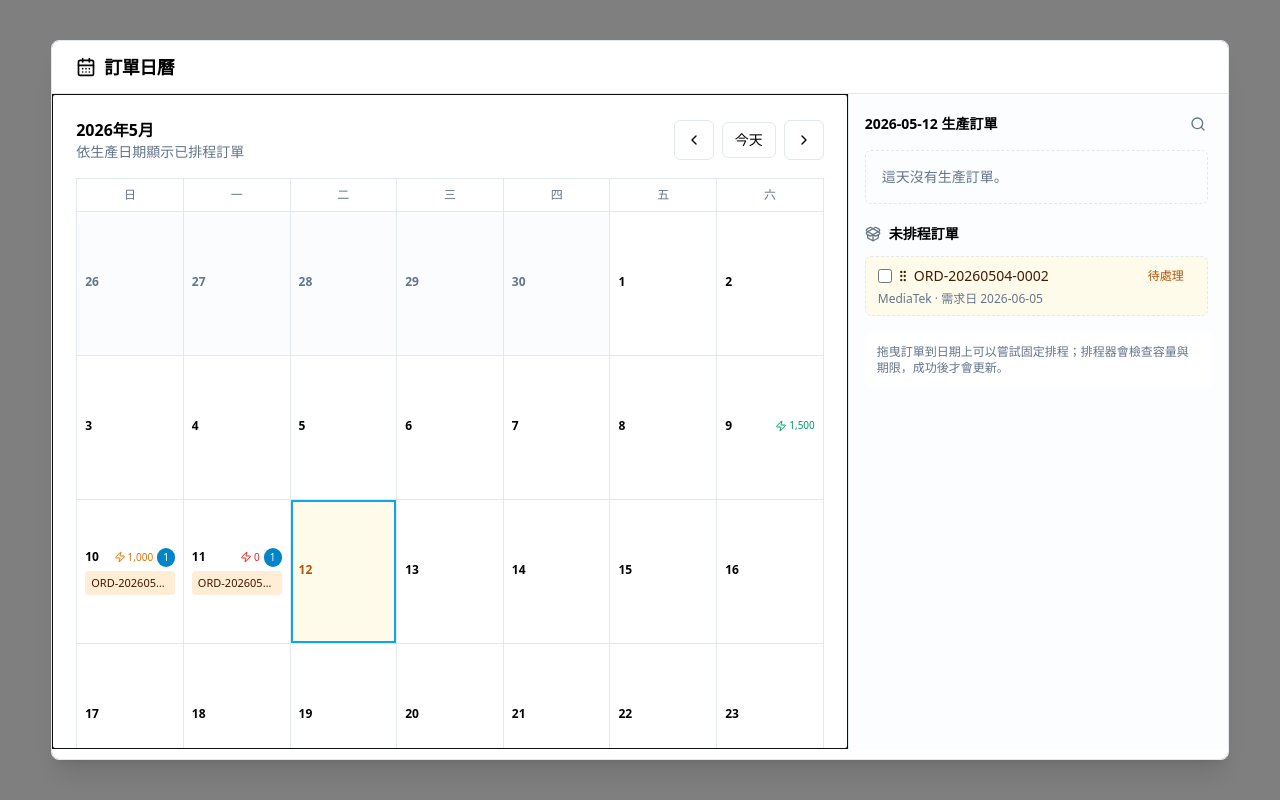
OrdersCalendarDialog › uses order status instead of the client clock for production state
Click the button named "2026-05-11" at (237, 572), box [184, 500, 291, 644]
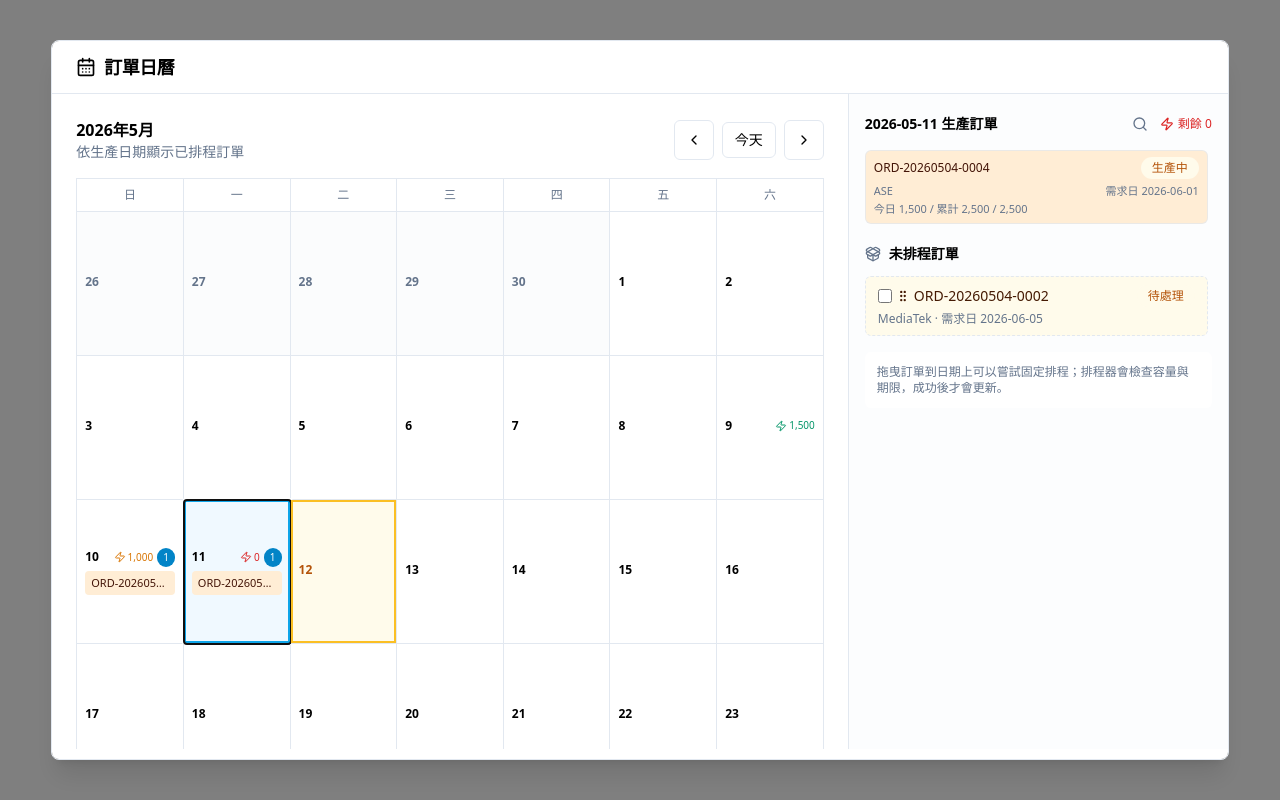
Now the text "生產中" is shown, box [1141, 157, 1199, 179]
